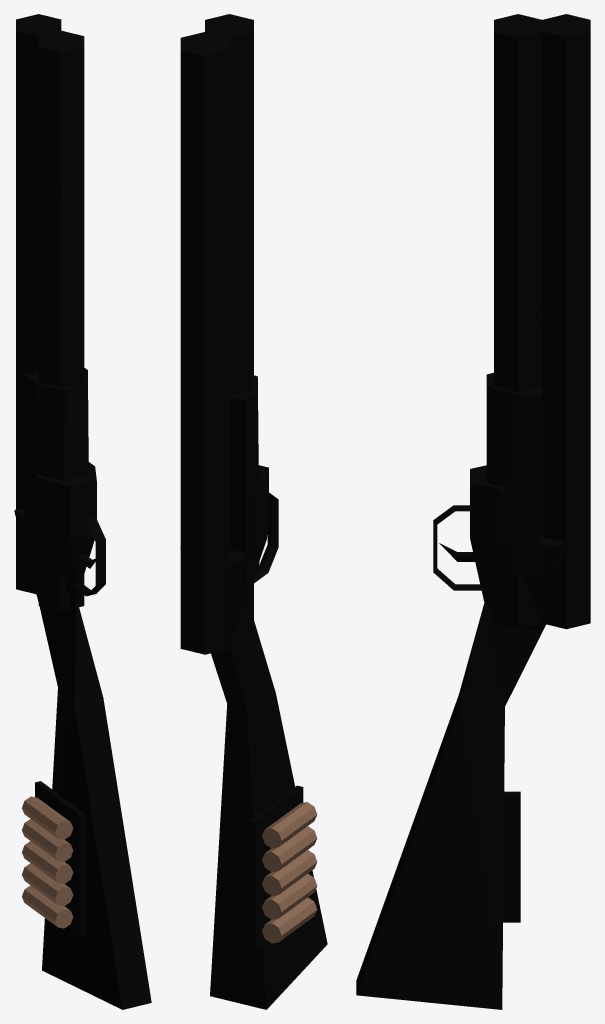
The model's file is Marlin1894__ShellHolder_Butt.fbx.
The picture shows the model from 3 angles, left to right: view 1: azimuth 30°, elevation 25°; view 2: azimuth 150°, elevation 25°; view 3: azimuth 270°, elevation 25°; orthographic projection. The views are drawn at different scales.
Parts seen in each view (by area): view 1: asset_Marlin1894.001; view 2: asset_Marlin1894.001; view 3: asset_Marlin1894.001.
Boxes of the visible parts, x1,y1,x2,y2 form: asset_Marlin1894.001: (14,14,151,1009); asset_Marlin1894.001: (180,14,327,1009); asset_Marlin1894.001: (356,14,590,1009).
Bounding box in the file's own units: 0.044 × 0.546 × 0.1193.
